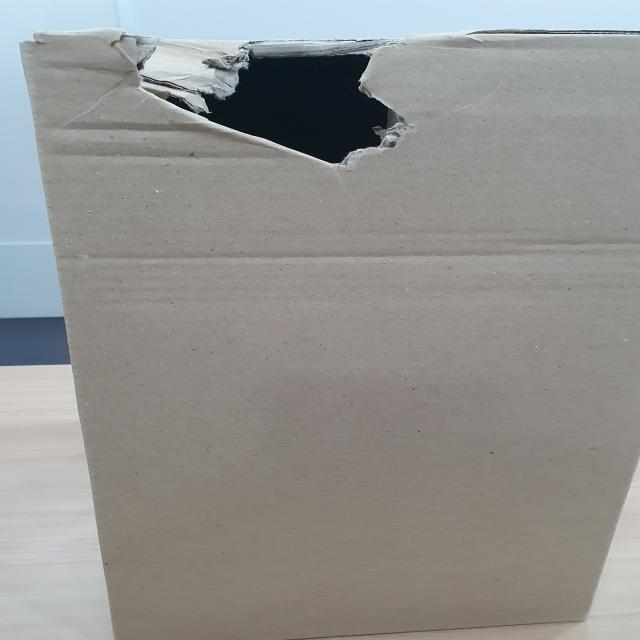hole: (101, 29, 485, 169)
